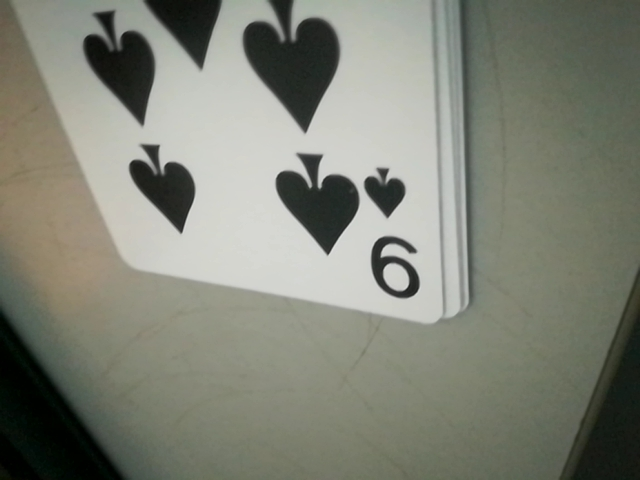ht 9: (362, 164, 430, 314)
